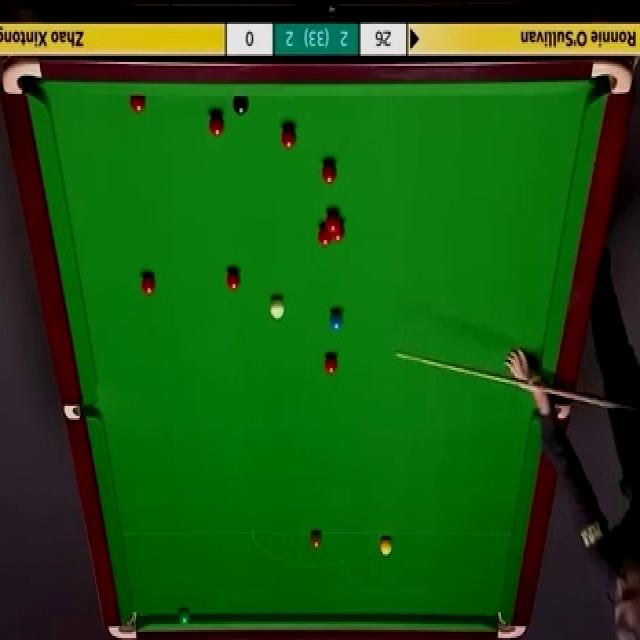black-ball: (232, 95, 248, 117)
blue-ball: (331, 313, 344, 334)
brown-ball: (310, 532, 322, 552)
green-ball: (177, 610, 190, 629)
red-ball: (320, 160, 337, 189), (225, 267, 242, 294), (280, 123, 296, 151), (208, 110, 225, 136), (142, 271, 156, 296), (129, 97, 148, 115), (332, 218, 346, 242), (318, 222, 331, 246), (324, 210, 340, 229), (324, 354, 337, 377)
white-ball: (269, 296, 286, 320)
yellow-ball: (381, 538, 393, 554)
